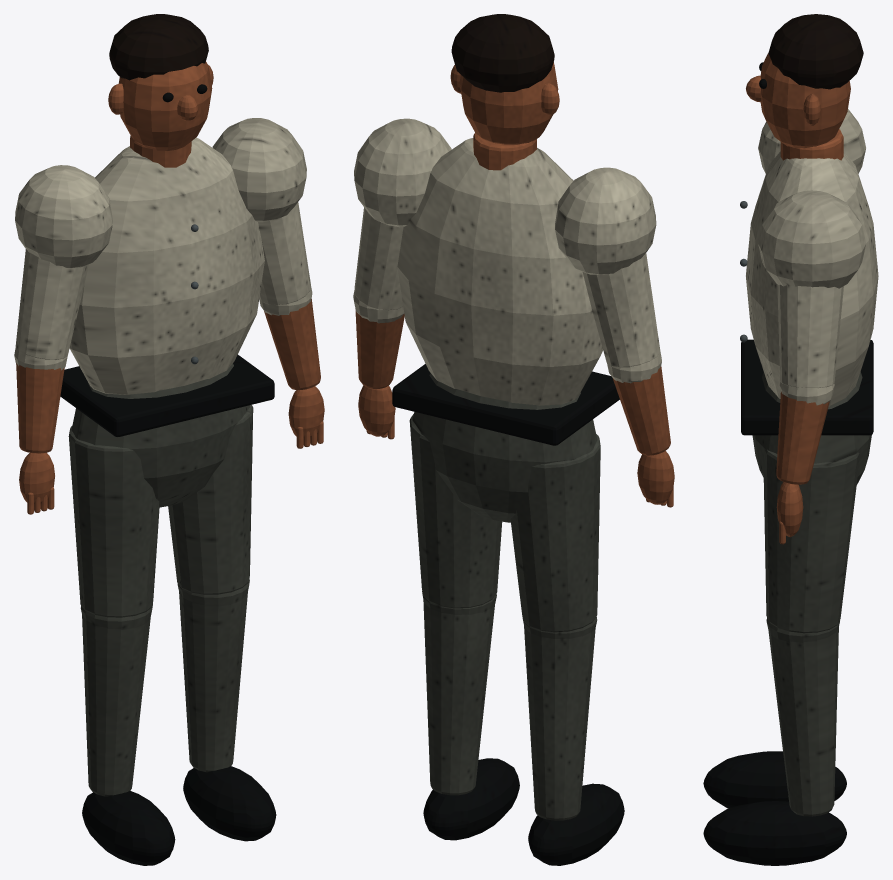
File: PROP-E9FDE33E57FF_lod0.glb
3 renders of one model, left to right at view 1: azimuth 30°, elevation 25°; view 2: azimuth 150°, elevation 25°; view 3: azimuth 270°, elevation 25°, orthographic. The views are drawn at different scales.
Parts seen in each view (by area): view 1: torso.046, thigh.045, calf.045, shoulder.046, shoe.045, upper_arm.046, pelvis.045, belt.045, forearm.046, head.045, hair_cap.045, hand.045 (+4 smaller); view 2: torso.046, thigh.045, calf.045, shoulder.046, pelvis.045, upper_arm.046, shoe.045, belt.045, hair_cap.045, forearm.046, head.045, hand.045 (+4 smaller); view 3: thigh.045, torso.046, shoe.045, shoulder.046, calf.045, upper_arm.046, hair_cap.045, belt.045, head.045, forearm.046, pelvis.045, hand.045 (+4 smaller).
Boxes of the visible parts, x1=… form: torso.046: x1=69, y1=137, x2=264, y2=394; thigh.045: x1=68, y1=405, x2=253, y2=617; calf.045: x1=82, y1=592, x2=247, y2=796; shoulder.046: x1=15, y1=118, x2=306, y2=268; shoe.045: x1=82, y1=766, x2=276, y2=865; upper_arm.046: x1=15, y1=202, x2=310, y2=359; pelvis.045: x1=71, y1=363, x2=249, y2=507; belt.045: x1=60, y1=354, x2=274, y2=436; forearm.046: x1=16, y1=299, x2=320, y2=453; head.045: x1=118, y1=61, x2=212, y2=150; hair_cap.045: x1=109, y1=14, x2=208, y2=80; hand.045: x1=19, y1=386, x2=324, y2=504; torso.046: x1=397, y1=138, x2=602, y2=405; thigh.045: x1=409, y1=414, x2=600, y2=632; calf.045: x1=423, y1=600, x2=595, y2=820; shoulder.046: x1=354, y1=118, x2=656, y2=274; pelvis.045: x1=412, y1=373, x2=597, y2=522; upper_arm.046: x1=354, y1=207, x2=660, y2=367; shoe.045: x1=423, y1=758, x2=624, y2=865; belt.045: x1=392, y1=364, x2=619, y2=445; hair_cap.045: x1=451, y1=14, x2=554, y2=92; forearm.046: x1=355, y1=310, x2=670, y2=455; head.045: x1=459, y1=62, x2=558, y2=144; hand.045: x1=358, y1=385, x2=674, y2=504; thigh.045: x1=763, y1=449, x2=859, y2=633; torso.046: x1=746, y1=151, x2=878, y2=406; shoe.045: x1=703, y1=751, x2=846, y2=865; shoulder.046: x1=758, y1=109, x2=866, y2=288; calf.045: x1=768, y1=627, x2=838, y2=816; upper_arm.046: x1=777, y1=284, x2=843, y2=388; hair_cap.045: x1=768, y1=14, x2=863, y2=89; belt.045: x1=741, y1=339, x2=873, y2=435; head.045: x1=760, y1=53, x2=850, y2=148; forearm.046: x1=776, y1=391, x2=829, y2=484; pelvis.045: x1=752, y1=371, x2=871, y2=484; hand.045: x1=776, y1=482, x2=803, y2=537.
Size of the model in its own units: 0.7175 by 1.84 by 0.3561.
6 materials, 6 textured.
